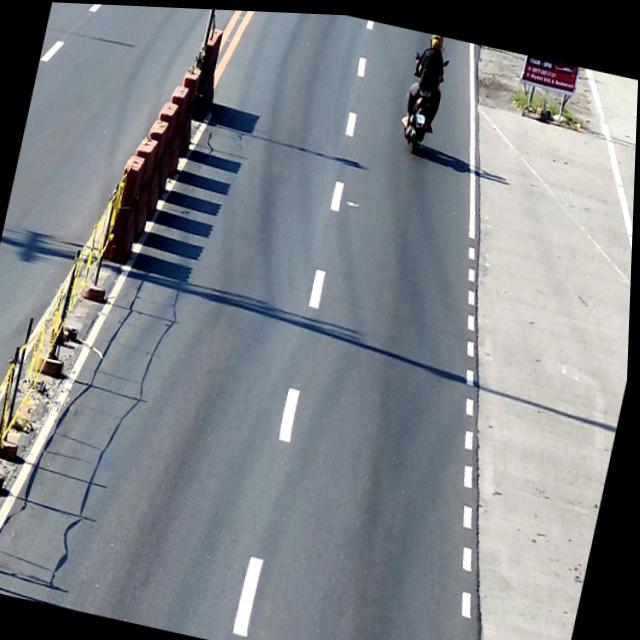License-Plate: (414, 109, 426, 120)
Motorcycle: (395, 45, 450, 154)
